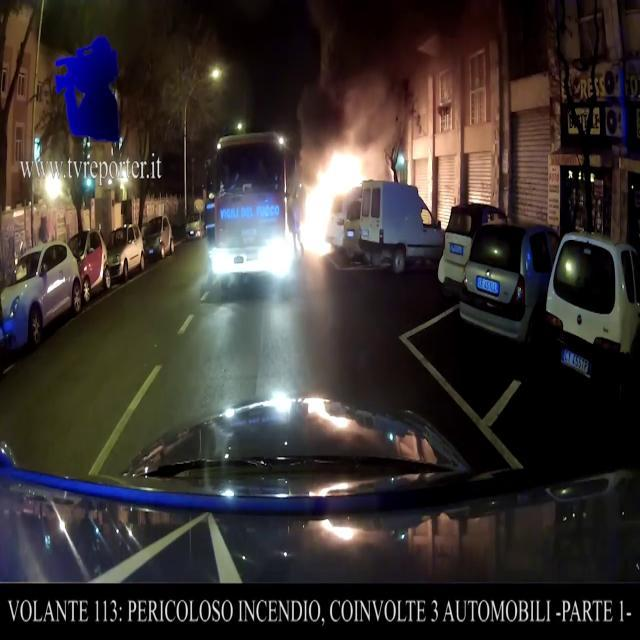Fire: (296, 140, 368, 258)
Smoke: (302, 1, 490, 150)
